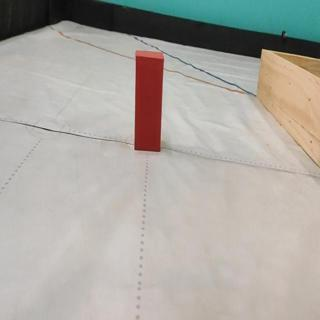redbox: (135, 49, 163, 152)
